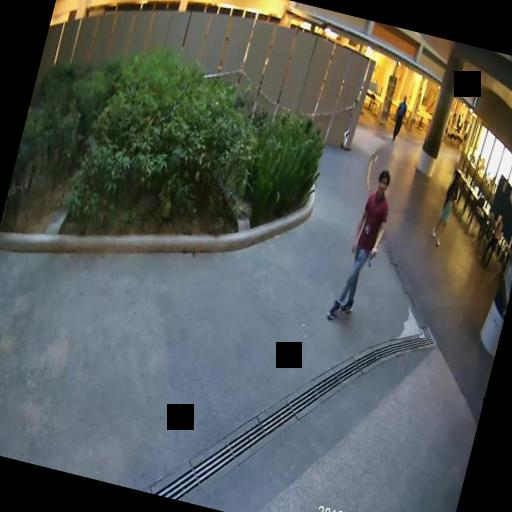Handgun: (364, 247, 378, 265)
